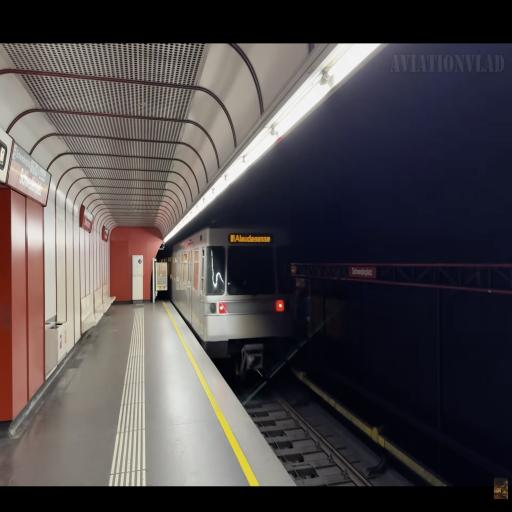Silberpfeil: (170, 224, 299, 350)
